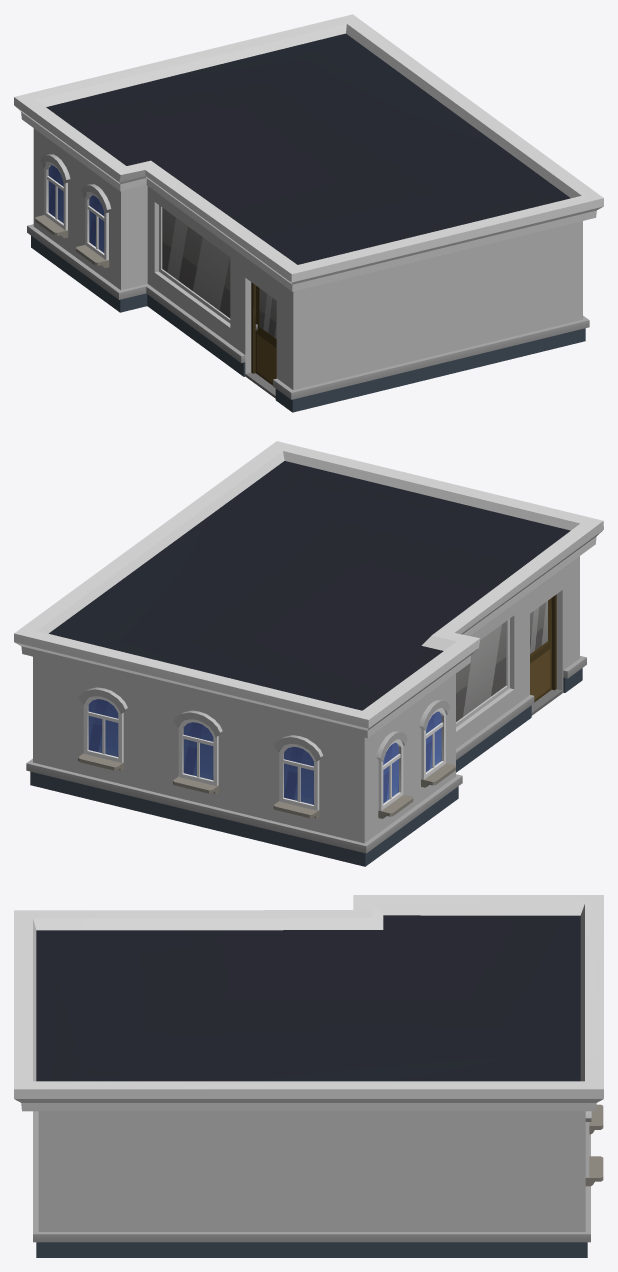
File: Building_1_1_G.fbx
3 renders of one model, top to bottom at view 1: azimuth 30°, elevation 25°; view 2: azimuth 150°, elevation 25°; view 3: azimuth 270°, elevation 25°, orthographic. The views are drawn at different scales.
Visible parts, largest first — view 1: Building_1_1_G; view 2: Building_1_1_G; view 3: Building_1_1_G.
Part boxes in pixels (bbox=[...]): Building_1_1_G: bbox=[14, 14, 603, 412]; Building_1_1_G: bbox=[14, 441, 603, 866]; Building_1_1_G: bbox=[14, 895, 603, 1257].
Size of the model in its own units: 822 by 341 by 1051.
